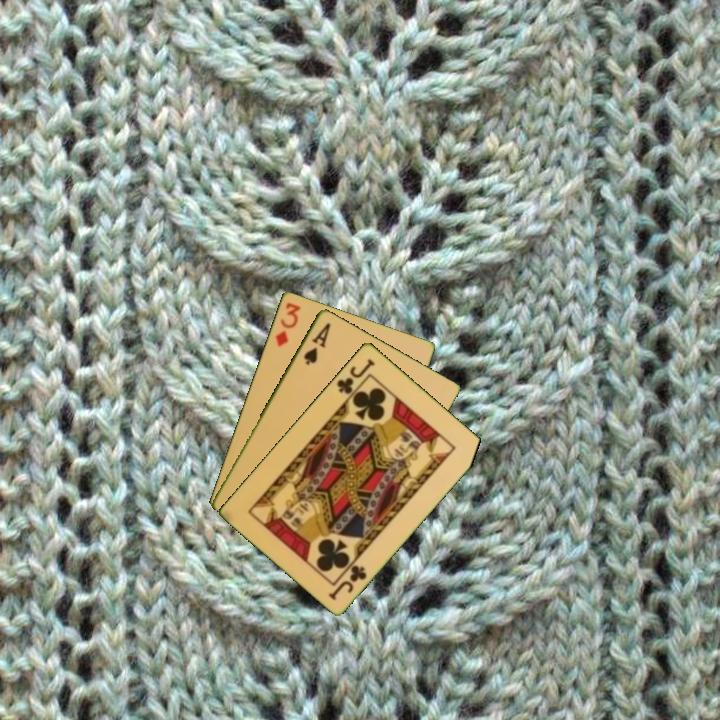3d: (271, 298, 303, 349)
As: (300, 319, 333, 368)
Jc: (333, 354, 378, 397), (325, 561, 370, 603)
